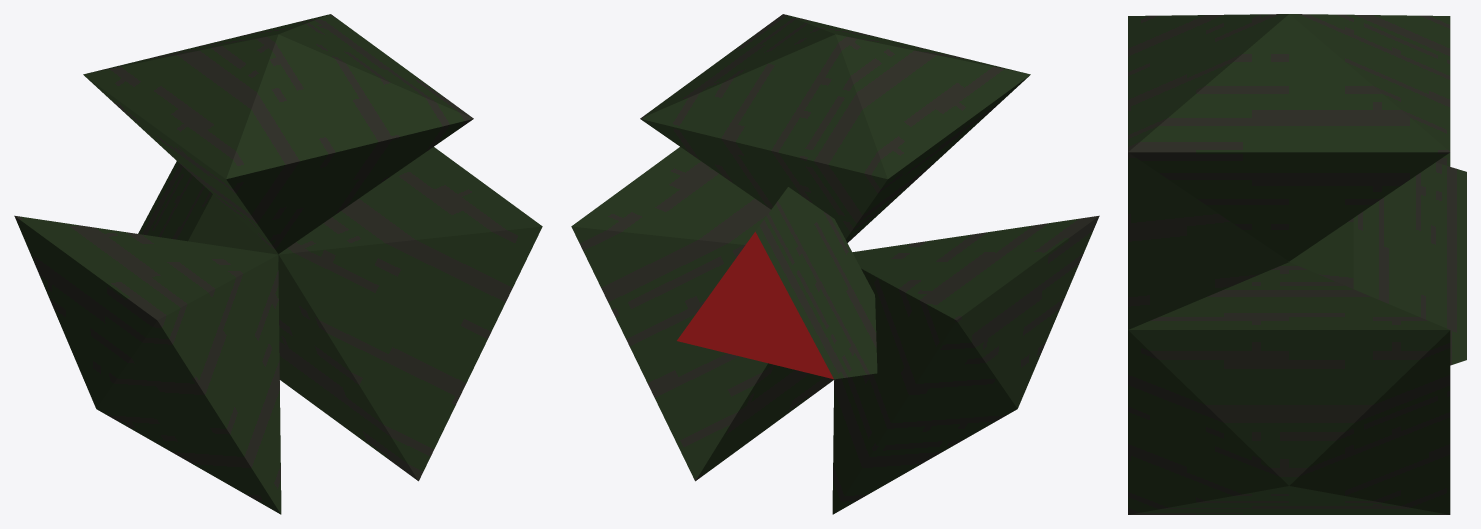
Rendered from model_054_robot_noname.glb.
3 renders of one model, left to right at view 1: azimuth 30°, elevation 25°; view 2: azimuth 150°, elevation 25°; view 3: azimuth 270°, elevation 25°, orthographic. The views are drawn at different scales.
Visible parts, largest first — view 1: model_054; view 2: model_054; view 3: model_054.
Boxes of the visible parts, bbox=[...] form: model_054: bbox=[14, 14, 542, 514]; model_054: bbox=[571, 14, 1099, 514]; model_054: bbox=[1128, 14, 1466, 514].
Size of the model in its own units: 4.9 by 5 by 3.31.
2 materials, 2 textured.
